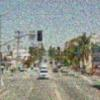cars: (39, 67, 49, 80)
traffic lights: (37, 30, 43, 42)
